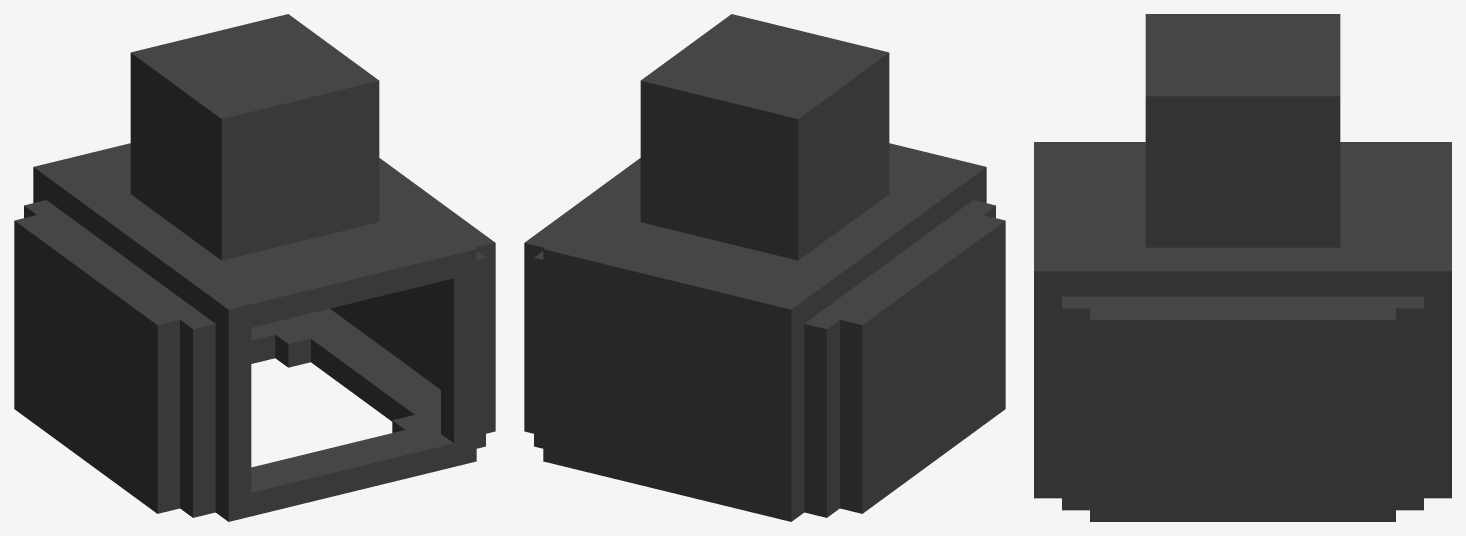
Rendered from launcher.obj.
3 renders of one model, left to right at view 1: azimuth 30°, elevation 25°; view 2: azimuth 150°, elevation 25°; view 3: azimuth 270°, elevation 25°, orthographic. The views are drawn at different scales.
Size of the model in its own units: 15 by 15 by 15.
Materials: 1 (1 with a texture image).
